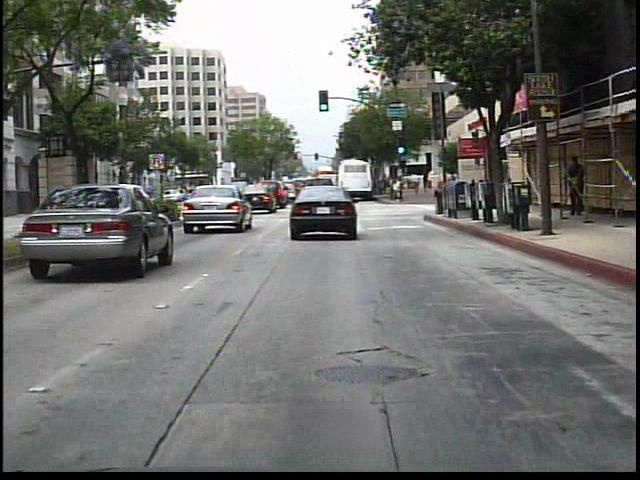person: (560, 153, 590, 221)
